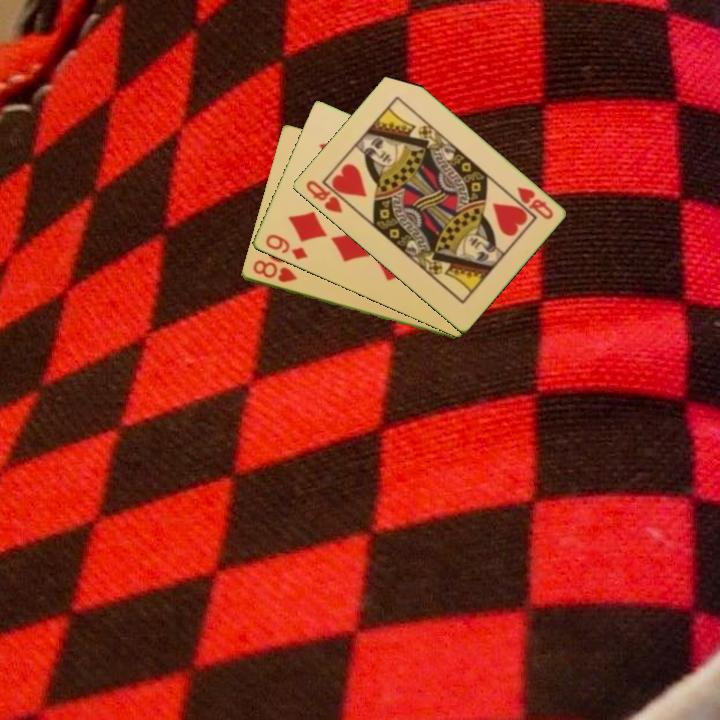8h: (249, 257, 300, 286)
9d: (261, 231, 310, 263)
Qh: (302, 177, 353, 216), (513, 183, 556, 223)
